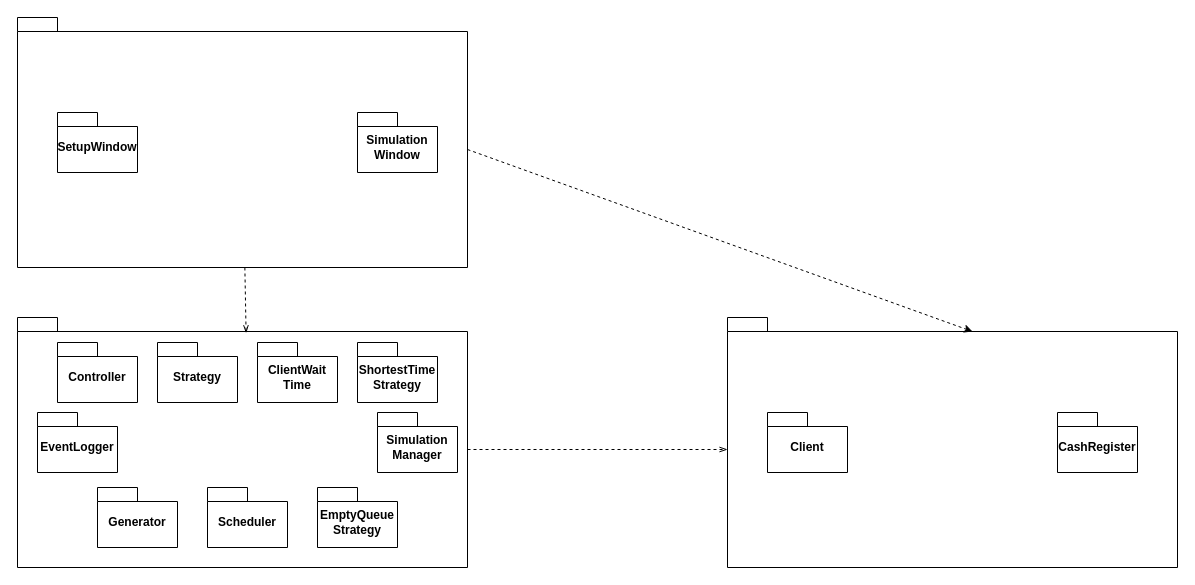
The diagram is 1195 pixels wide and 585 high, and some of its shapes have lost their labels. Each missing label, with the box of its shape:
BusinessLogic: (16, 316, 468, 568)
Data Model: (726, 316, 1178, 568)
Presentation: (16, 16, 468, 268)
